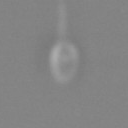normal: (48, 1, 80, 40)
